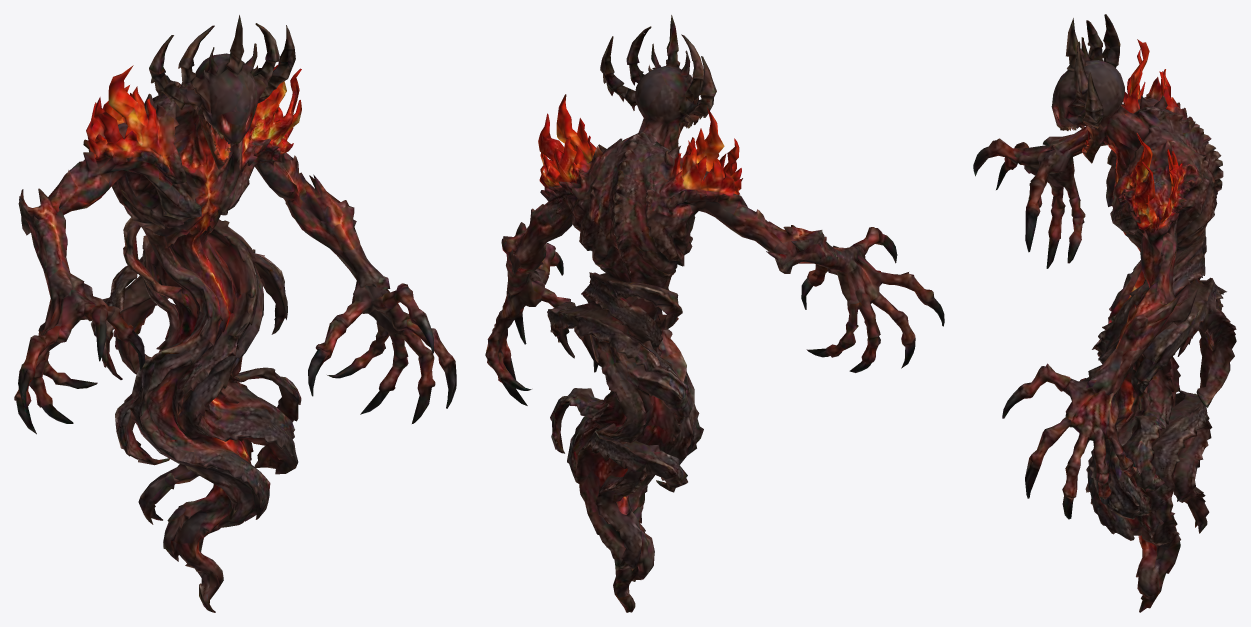
Rendered from fire_possessor.glb.
3 renders of one model, left to right at view 1: azimuth 30°, elevation 25°; view 2: azimuth 150°, elevation 25°; view 3: azimuth 270°, elevation 25°, orthographic. The views are drawn at different scales.
Visible parts, largest first — view 1: tripo_node_ad7a7938-5cb7-4d82-9c50-d0716490c6b9; view 2: tripo_node_ad7a7938-5cb7-4d82-9c50-d0716490c6b9; view 3: tripo_node_ad7a7938-5cb7-4d82-9c50-d0716490c6b9.
Boxes of the visible parts, x1,y1,x2,y2 form: tripo_node_ad7a7938-5cb7-4d82-9c50-d0716490c6b9: [14, 15, 456, 612]; tripo_node_ad7a7938-5cb7-4d82-9c50-d0716490c6b9: [485, 15, 944, 612]; tripo_node_ad7a7938-5cb7-4d82-9c50-d0716490c6b9: [973, 14, 1236, 612].
Bounding box in the file's own units: 0.7399 × 0.9819 × 0.3968.
1 material, 1 textured.
